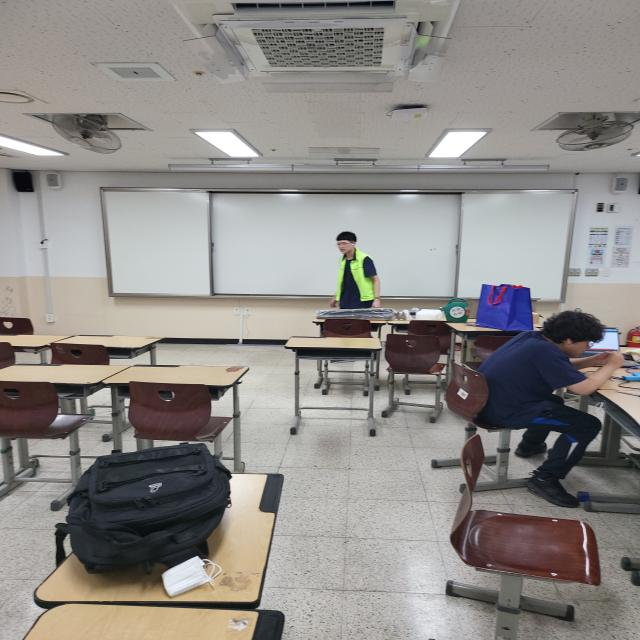weston_spy: (335, 255, 379, 306)
